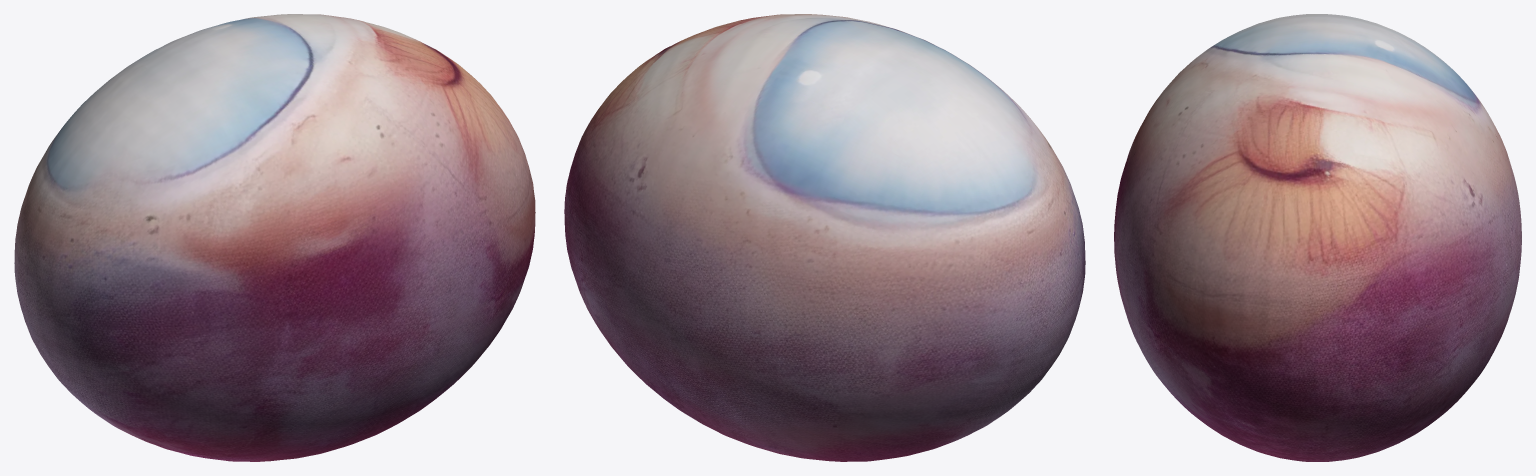
File: cataracts-eye.glb
3 views of the same model, side by side, from view 1: azimuth 30°, elevation 25°; view 2: azimuth 150°, elevation 25°; view 3: azimuth 270°, elevation 25° (orthographic). The views are drawn at different scales.
Visible parts, largest first — view 1: model; view 2: model; view 3: model.
Part boxes in pixels (x1,y1,x2,y2): model: (14,14,535,461); model: (564,14,1085,461); model: (1114,14,1521,461).
Size of the model in its own units: 1.9 by 1.54 by 1.46.
Materials: 1 (1 with a texture image).
